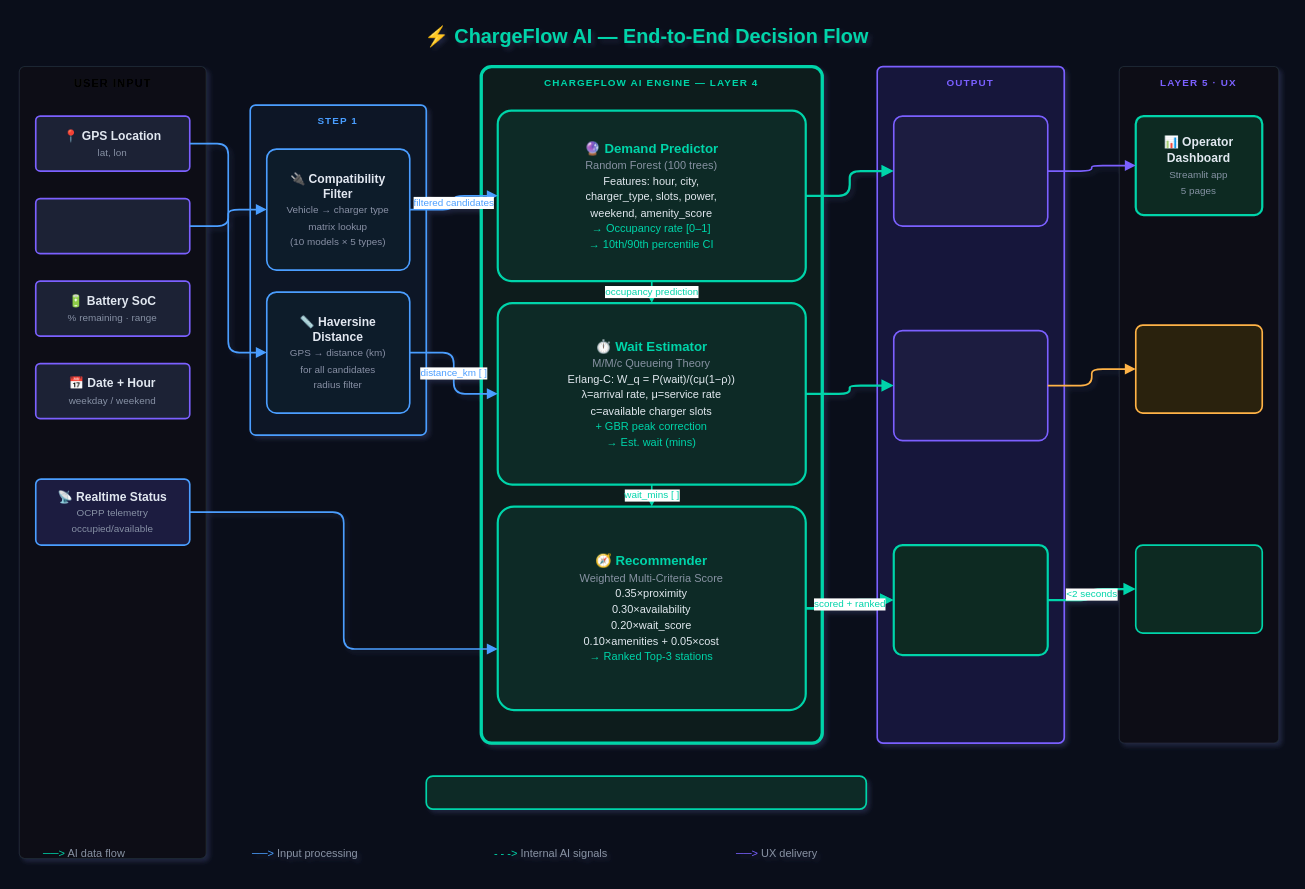
This 1305x889 diagram has some shape labels left out. The shapes that lost their labels are listed below. From the top down, each one's centre as x and y in pixels, then its label:
the point at 970,170: 📈 24-hr Forecast Demand curve + confidence band Operator dashboard
the point at 112,225: 🚗 Vehicle Type model + charger compat.
the point at 970,385: ⏱️ Wait Alert Per-station wait time AI congestion alert Operator action
the point at 1198,368: 🚨 AI Alert Critical stations auto-flagged
the point at 970,599: 🏆 Top-3 Stations Ranked by AI score With explanation Driver-facing card
the point at 1198,588: 🚗 Driver Navigation Route to best charger
the point at 646,792: ⚡ End-to-End: <2 seconds
